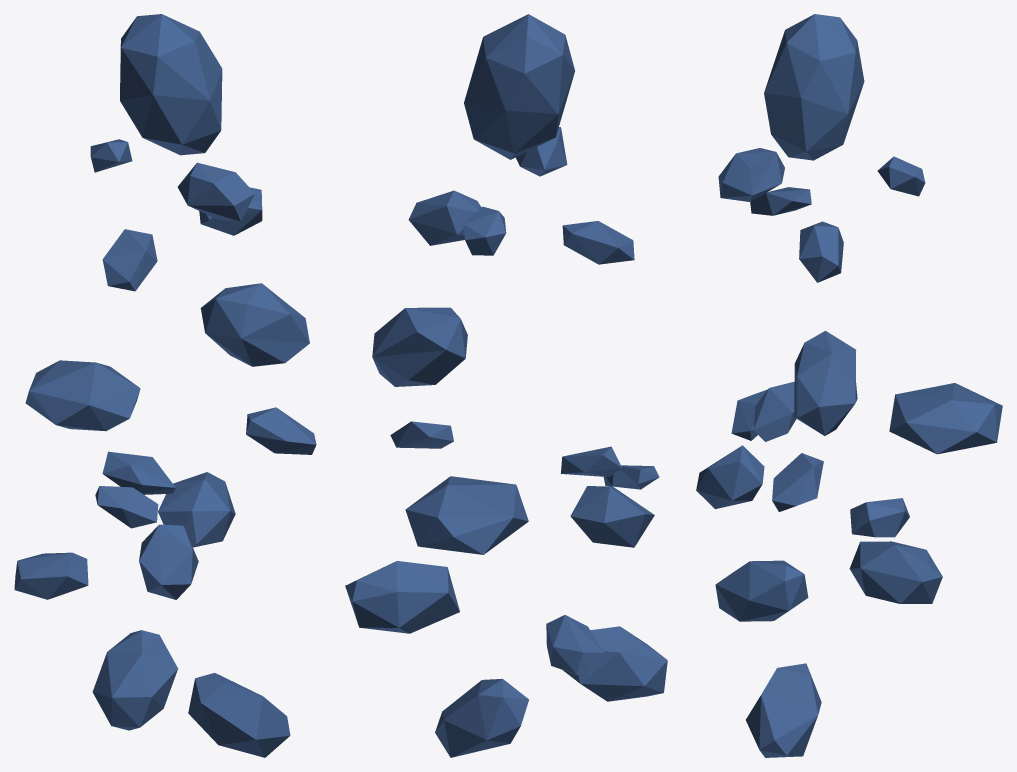
Rendered from tree-winter-leaves-025.glb.
3 renders of one model, left to right at view 1: azimuth 30°, elevation 25°; view 2: azimuth 150°, elevation 25°; view 3: azimuth 270°, elevation 25°, orthographic. The views are drawn at different scales.
Visible parts, largest first — view 1: Icosphere.009_159; view 2: Icosphere.009_159; view 3: Icosphere.009_159.
Part boxes in pixels (x1,y1,x2,y2): Icosphere.009_159: [14, 14, 316, 757]; Icosphere.009_159: [345, 14, 667, 757]; Icosphere.009_159: [696, 14, 1002, 757].
Bounding box in the file's own units: 0.7023 × 1.98 × 0.7754.
